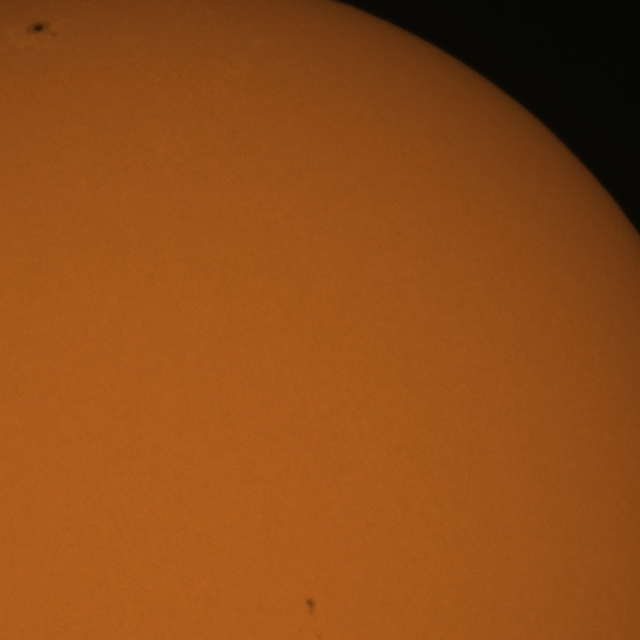sunspot: (24, 21, 58, 40), (304, 596, 316, 616)
